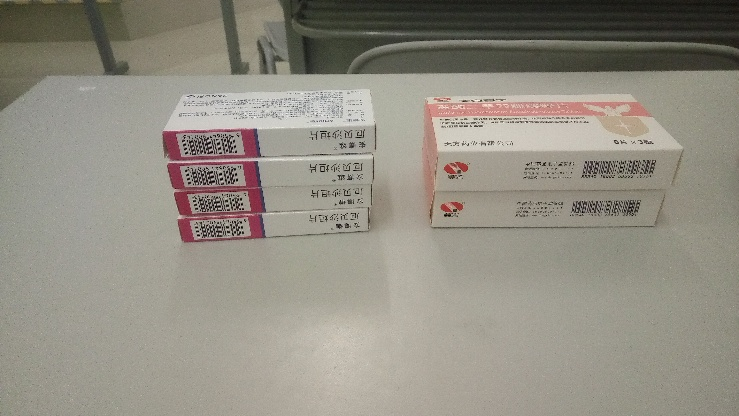pillbox: (428, 90, 674, 190), (166, 90, 371, 159), (427, 182, 666, 231), (162, 156, 375, 191), (176, 211, 372, 243), (174, 185, 376, 213)
